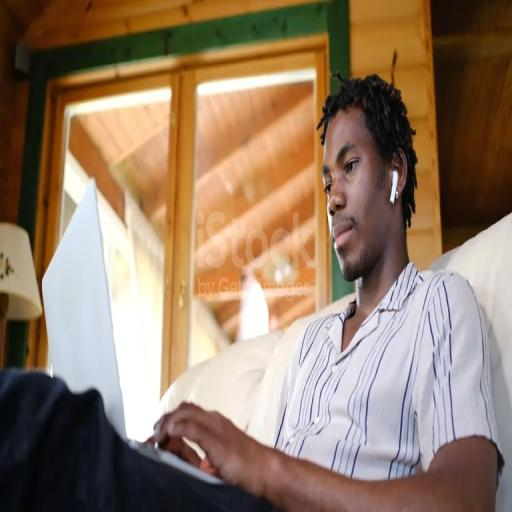earphone: (390, 165, 397, 210)
